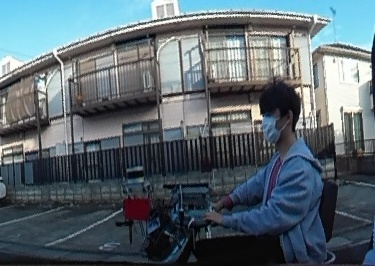person: (233, 79, 320, 266)
